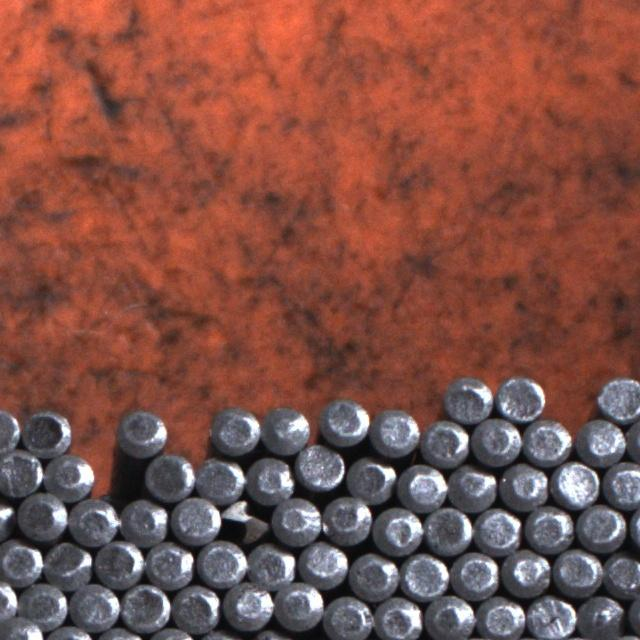tool: (18, 405, 71, 457), (115, 404, 167, 456), (164, 408, 214, 462), (44, 451, 96, 502), (319, 394, 370, 446), (15, 490, 66, 541), (273, 578, 323, 630), (222, 580, 272, 630), (321, 494, 371, 544), (143, 450, 193, 500), (120, 580, 170, 630), (470, 415, 520, 465), (68, 496, 118, 546), (372, 505, 422, 555), (502, 548, 552, 598), (69, 580, 119, 630), (496, 372, 546, 422), (296, 441, 346, 491), (91, 537, 140, 588), (442, 373, 491, 424), (171, 582, 220, 632), (498, 461, 548, 510), (447, 463, 496, 513), (345, 455, 395, 504), (170, 494, 219, 544), (272, 495, 321, 545), (576, 502, 626, 551), (372, 406, 421, 456), (547, 376, 595, 427), (551, 459, 600, 508), (423, 505, 472, 554), (348, 551, 397, 600), (42, 537, 91, 586), (450, 549, 499, 598), (261, 404, 310, 453), (144, 539, 192, 589), (210, 406, 258, 456), (220, 498, 270, 546), (524, 505, 572, 554), (195, 455, 243, 504), (196, 538, 244, 587), (246, 456, 295, 504), (523, 416, 572, 464), (574, 416, 622, 465), (19, 579, 68, 627), (398, 463, 446, 512), (423, 593, 473, 640), (474, 506, 522, 554), (299, 539, 347, 587), (576, 592, 624, 640), (553, 546, 601, 594), (400, 551, 448, 599), (421, 418, 469, 466), (372, 594, 422, 640), (526, 593, 574, 640), (245, 542, 292, 590), (120, 496, 167, 544), (322, 594, 371, 640), (477, 594, 524, 640), (597, 372, 640, 422), (0, 448, 42, 498), (0, 536, 41, 586), (602, 459, 640, 508), (602, 550, 640, 598), (0, 614, 43, 640), (0, 404, 19, 455)
